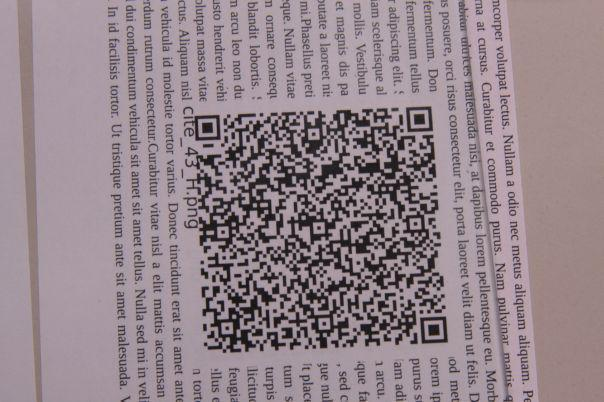qr_code: (194, 106, 450, 355)
